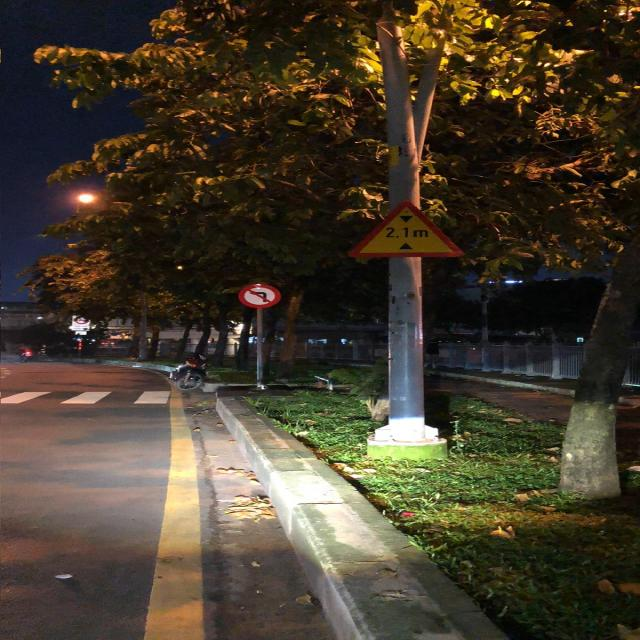Bien bao cam re trai: (235, 279, 287, 309)
Bien bao chieu cao tinh khong thuc te: (343, 198, 472, 263)
